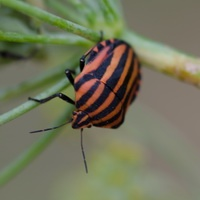insect: (28, 39, 140, 128)
